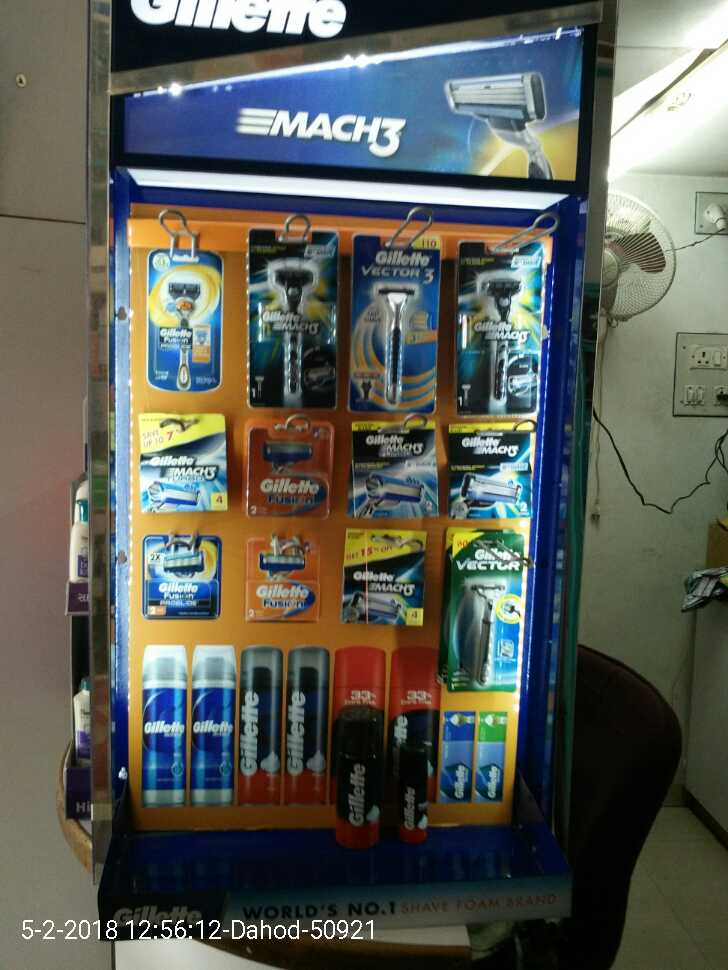gillette: (349, 240, 441, 417), (451, 234, 542, 410), (245, 241, 339, 409), (449, 533, 519, 694), (142, 410, 234, 513), (449, 429, 535, 524), (247, 426, 330, 521), (357, 428, 439, 522), (341, 534, 423, 628)
